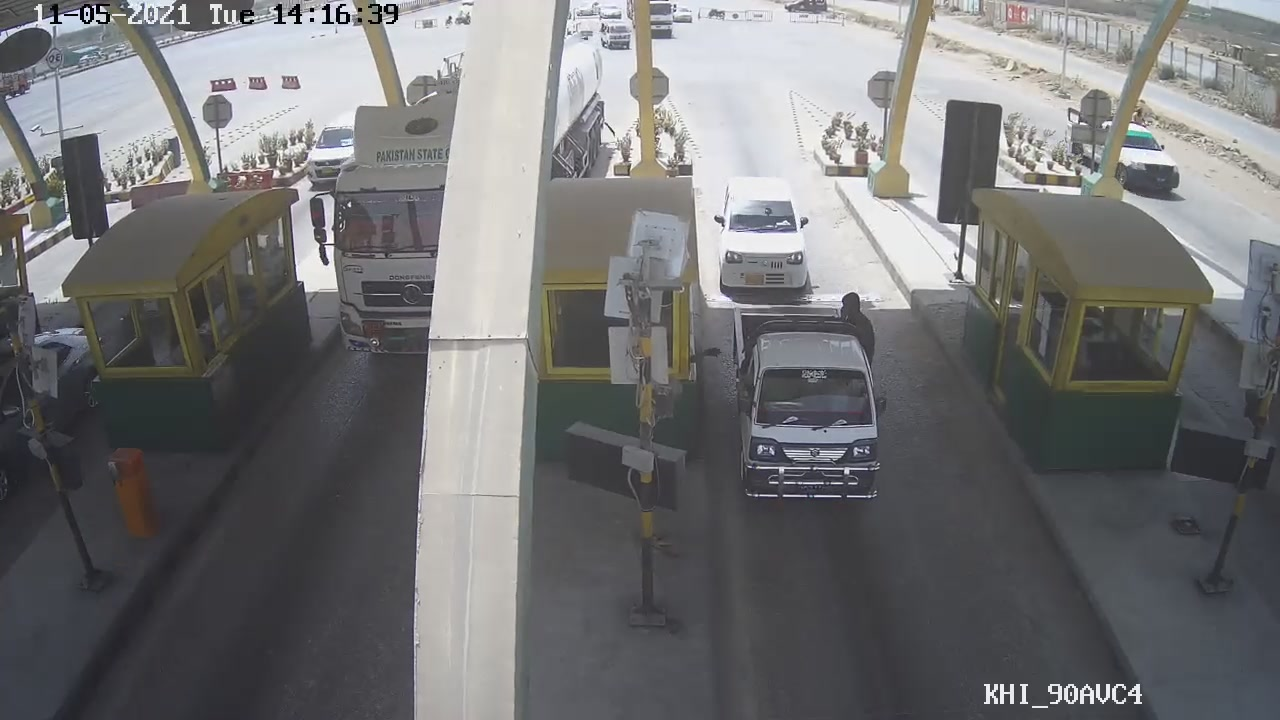F1: (734, 304, 891, 507), (706, 171, 821, 303)
